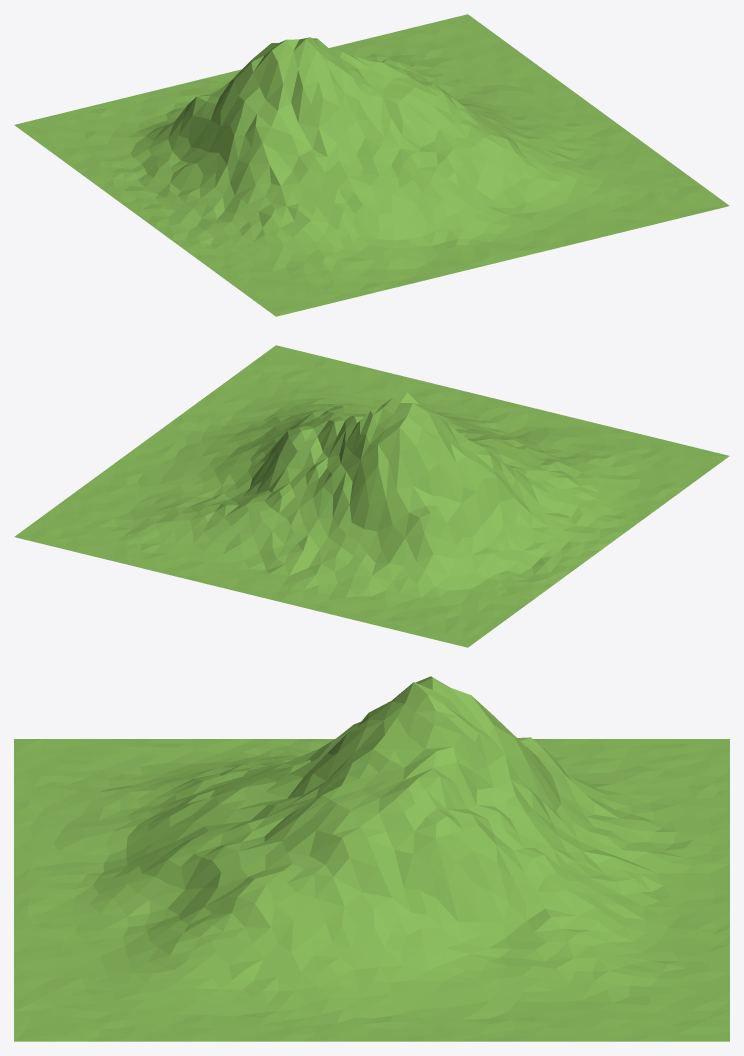
The model's file is MT_Terrain_L_a_37.fbx.
The picture shows the model from 3 angles, top to bottom: view 1: azimuth 30°, elevation 25°; view 2: azimuth 150°, elevation 25°; view 3: azimuth 270°, elevation 25°; orthographic projection. The views are drawn at different scales.
Parts seen in each view (by area): view 1: MT_Terrain_L_a_37; view 2: MT_Terrain_L_a_37; view 3: MT_Terrain_L_a_37.
Part boxes in pixels (x1=…): MT_Terrain_L_a_37: x1=14, y1=14, x2=729, y2=316; MT_Terrain_L_a_37: x1=14, y1=345, x2=729, y2=647; MT_Terrain_L_a_37: x1=14, y1=676, x2=729, y2=1041.
Bounding box in the file's own units: 10000 × 2699 × 10000.
